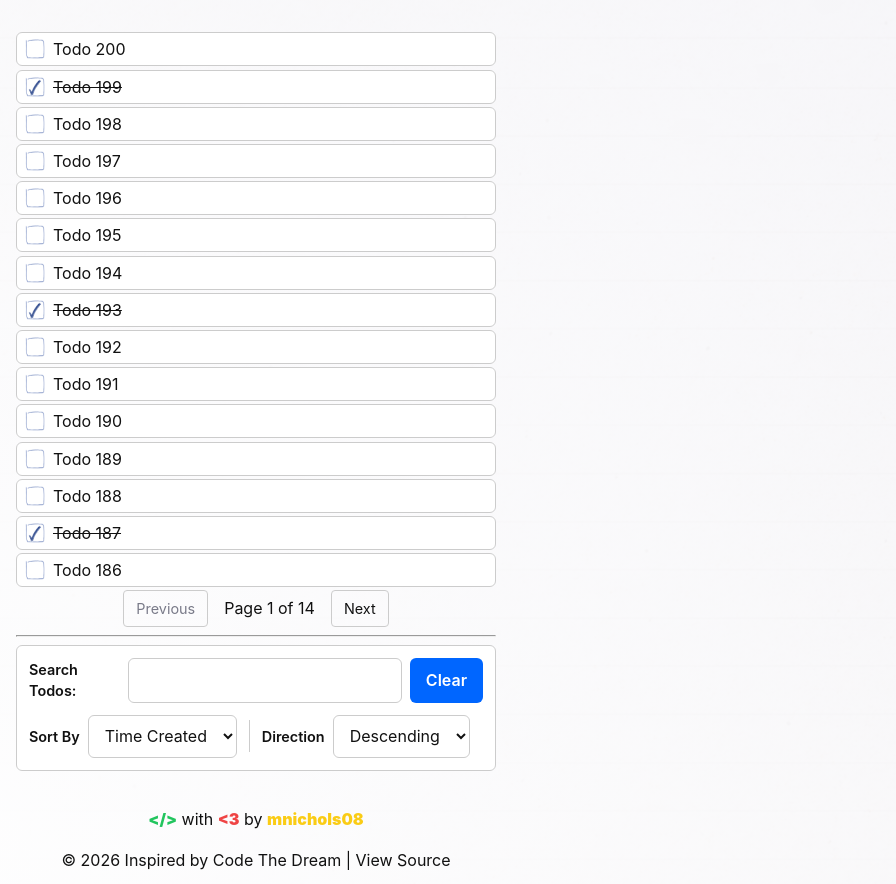
Test: App navigation and routing › updates the page query param when clicking pagination controls
(page scrolled)
Expected: the button "Previous" is disabled, [123,590,208,627]
Step 1. Click the button "Next" → (360, 608), box [331,590,389,627]
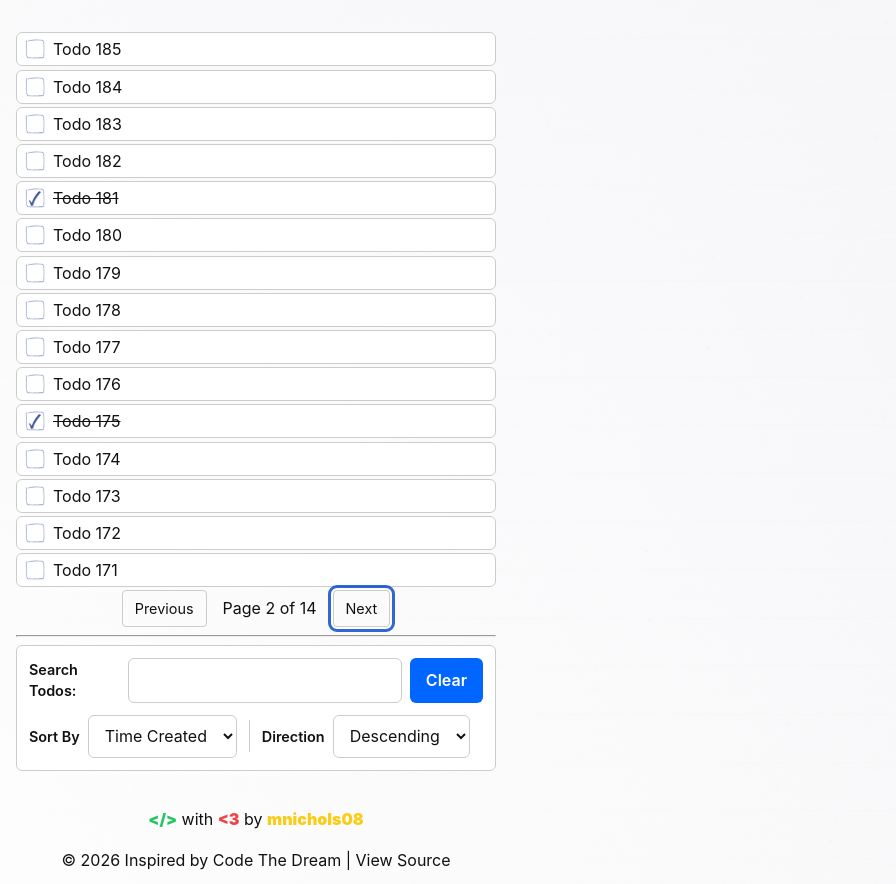
Expected: the text "Page 2 of 14" is shown, [222,596,316,620]
Expected: the button "Previous" is enabled
Step 2. Click the button "Previous" → (164, 608), box [122,590,206,627]
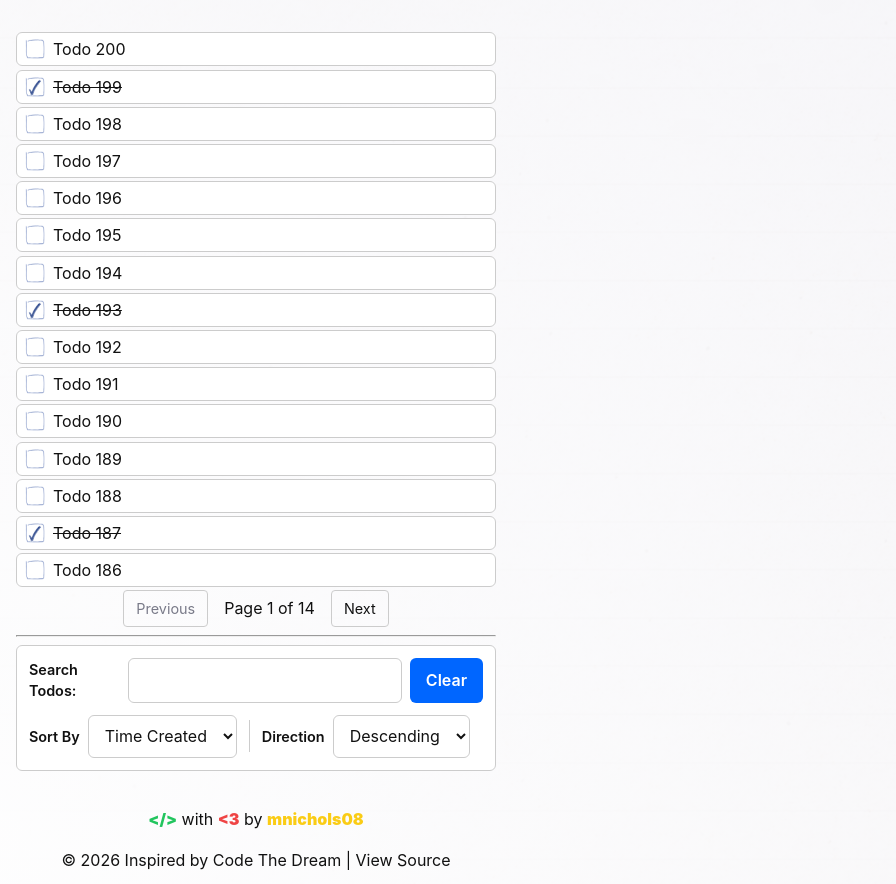
Expected: the button "Previous" is disabled, [123,590,208,627]
